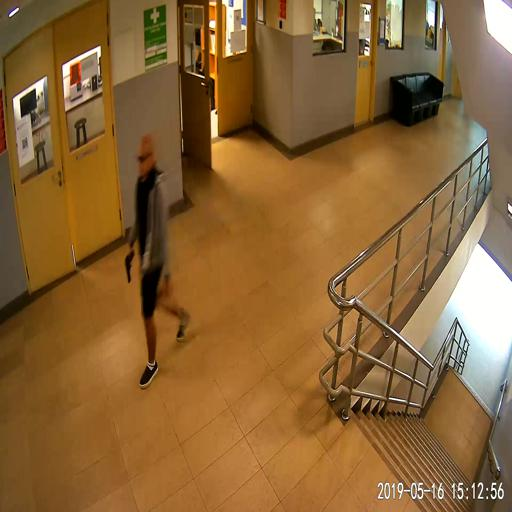pistol: (124, 249, 134, 282)
